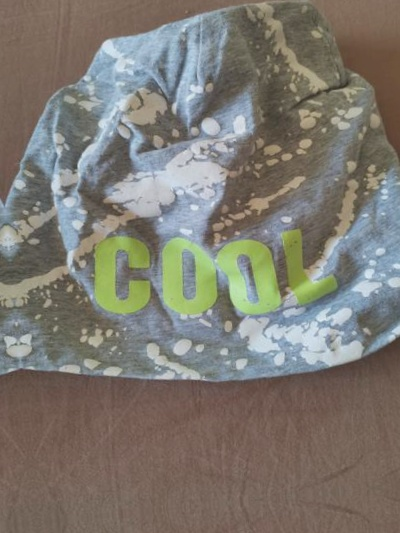Hat: (0, 0, 400, 414), (0, 26, 24, 456)
